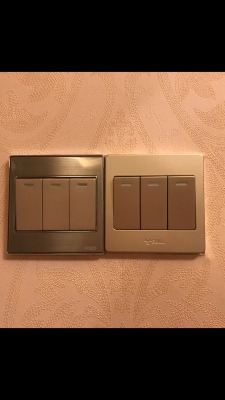switch: (165, 173, 199, 233), (137, 173, 171, 231), (41, 175, 73, 235), (112, 172, 143, 233), (14, 173, 45, 233), (68, 174, 99, 234)
